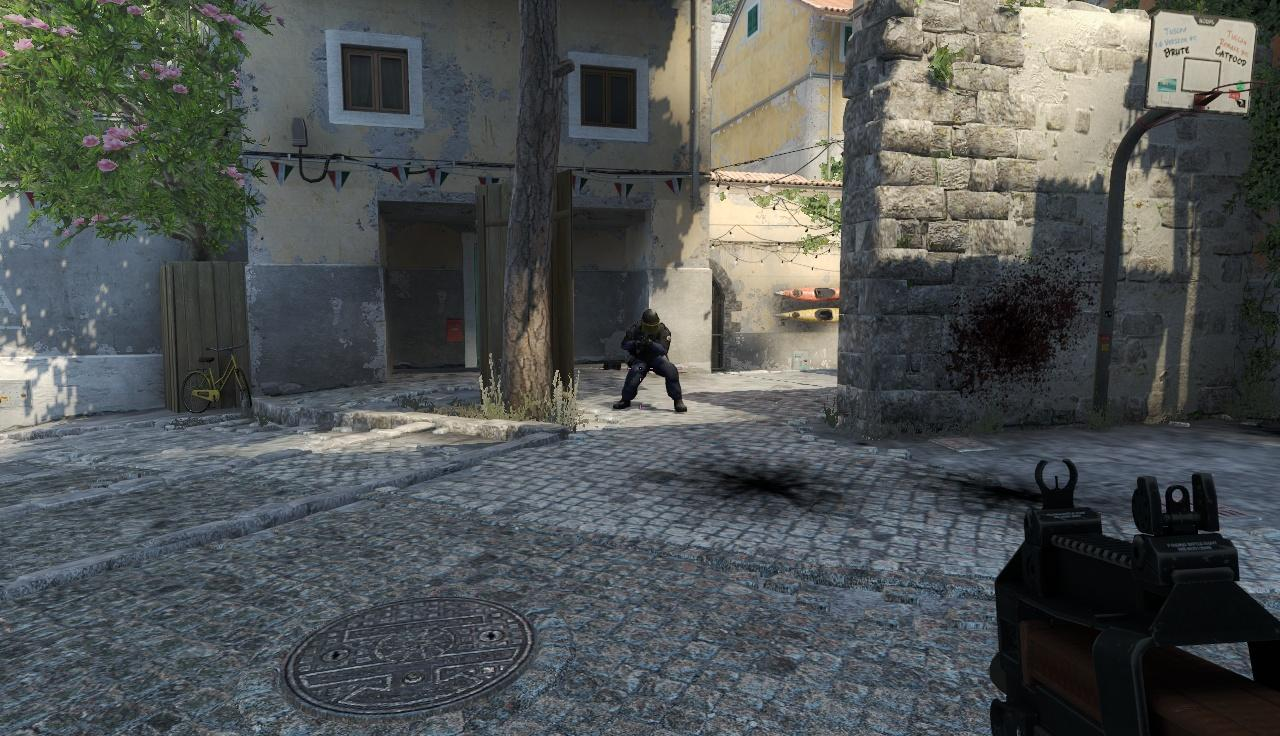ct: (629, 310, 681, 413)
cthead: (640, 310, 660, 333), (640, 311, 659, 334)
rifle: (990, 465, 1280, 736)
